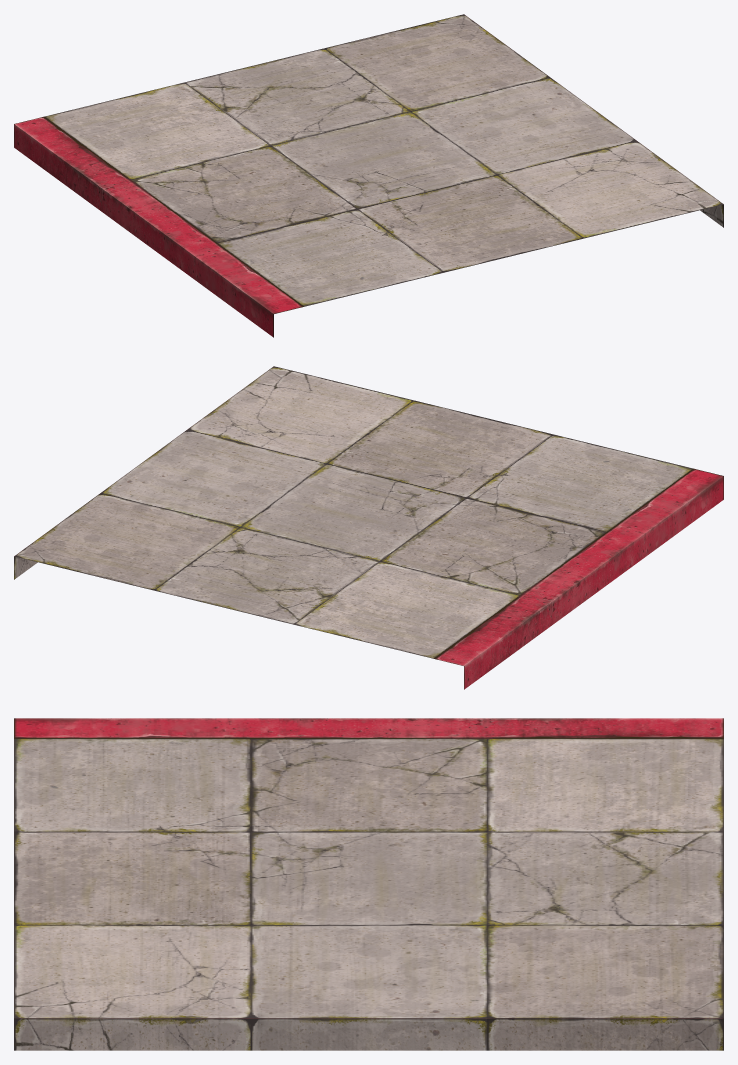
Rendered from sidewalk02.fbx.
3 views of the same model, one above another, from view 1: azimuth 30°, elevation 25°; view 2: azimuth 150°, elevation 25°; view 3: azimuth 270°, elevation 25° (orthographic). The views are drawn at different scales.
Visible parts, largest first — view 1: sidewalk02; view 2: sidewalk02; view 3: sidewalk02.
Boxes of the visible parts, x1,y1,x2,y2 form: sidewalk02: (14,14,723,337); sidewalk02: (14,366,723,689); sidewalk02: (14,718,723,1050).
Bounding box in the file's own units: 300 × 15 × 300.
